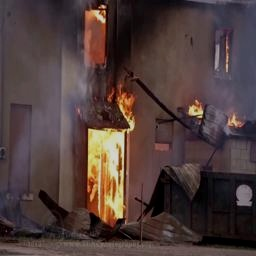fire: (86, 127, 131, 214), (81, 0, 113, 68)
